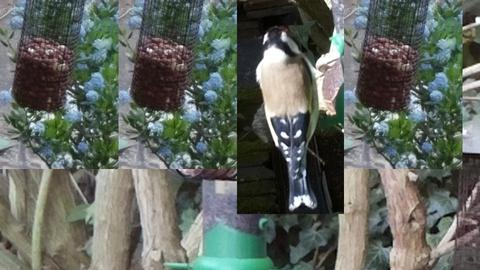goldfinch: (255, 25, 319, 212)
